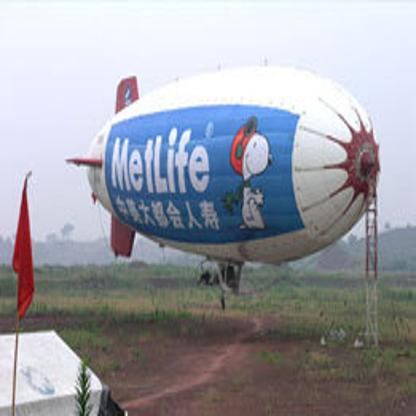Airship: (66, 63, 382, 266)
